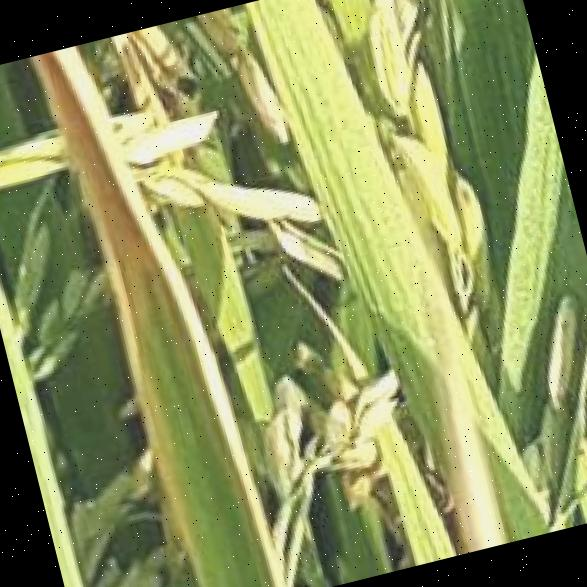Bacteria_Leaf_Blight: (6, 25, 287, 586)
